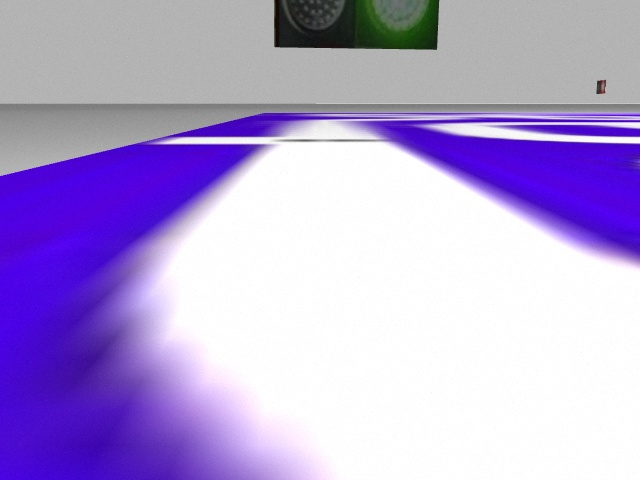green: (355, 1, 439, 49)
